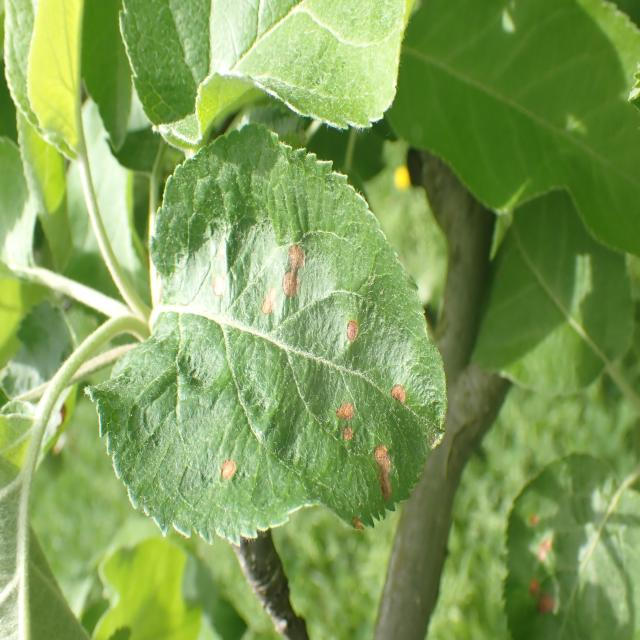frog-eye-leaf-spot: (82, 122, 449, 547)
